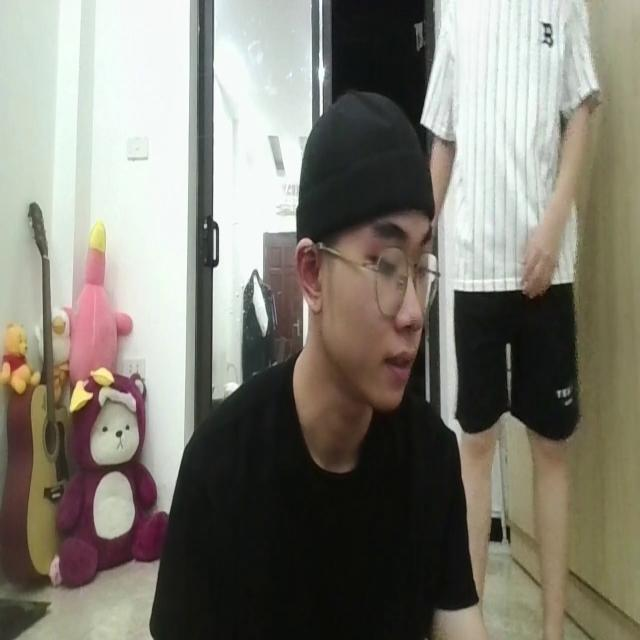extra_person: (425, 10, 602, 640)
student: (136, 82, 486, 640)
